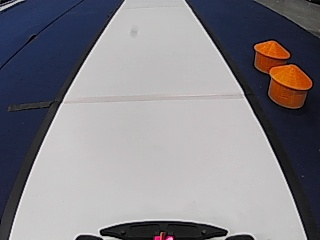granary: (267, 62, 313, 109), (252, 38, 290, 72)
